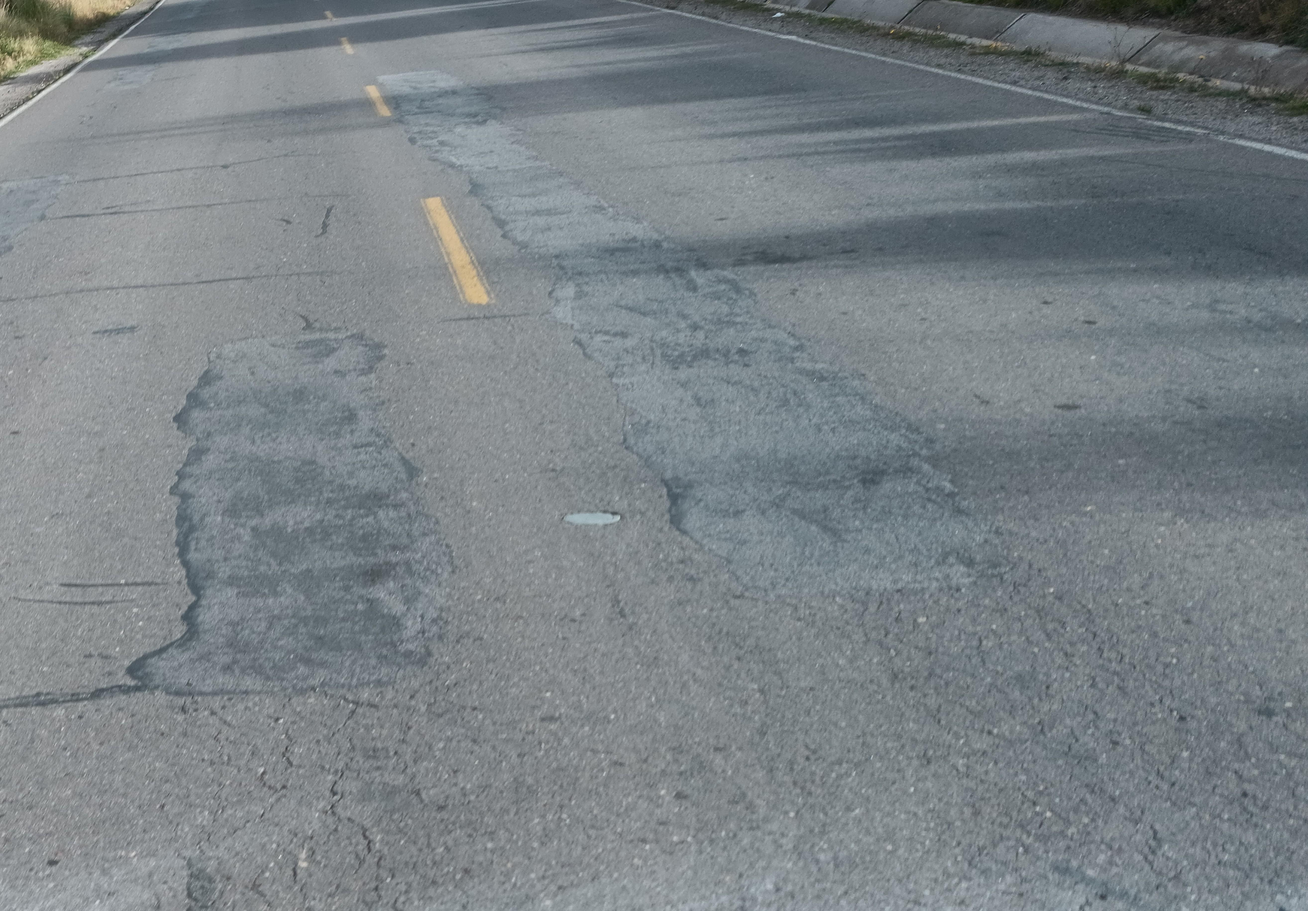PARCHE: (399, 72, 983, 594), (128, 332, 447, 694), (0, 175, 67, 254)
PIEL DE COCODRILO: (853, 550, 1302, 903), (139, 697, 447, 911)
